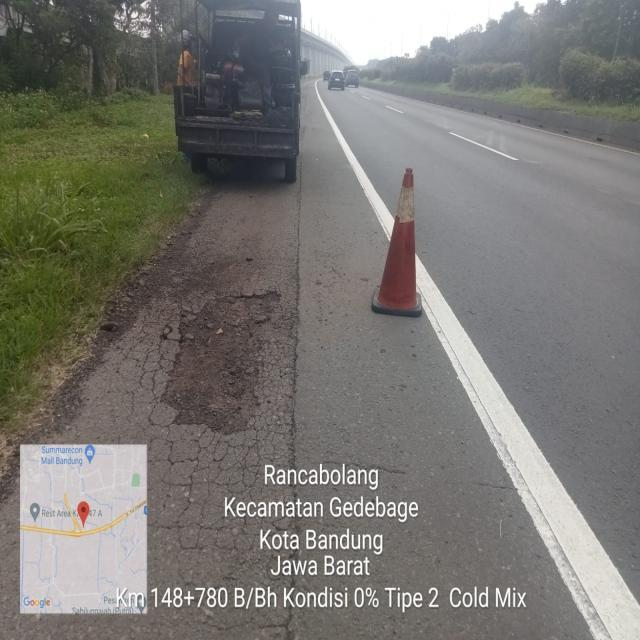Buraco: (157, 288, 285, 439)
